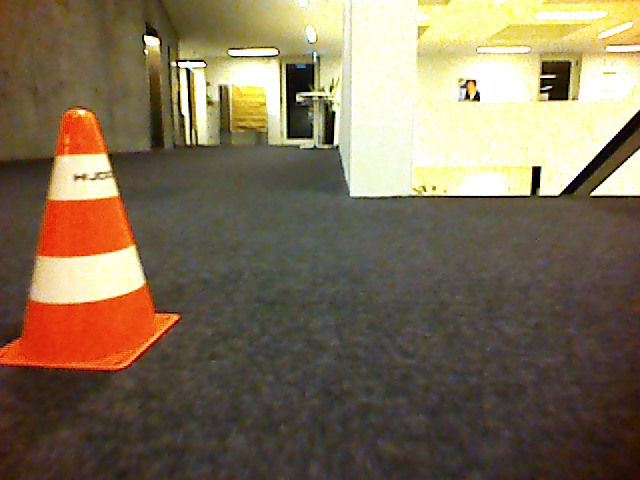orangeconesmall: (1, 104, 182, 372)
